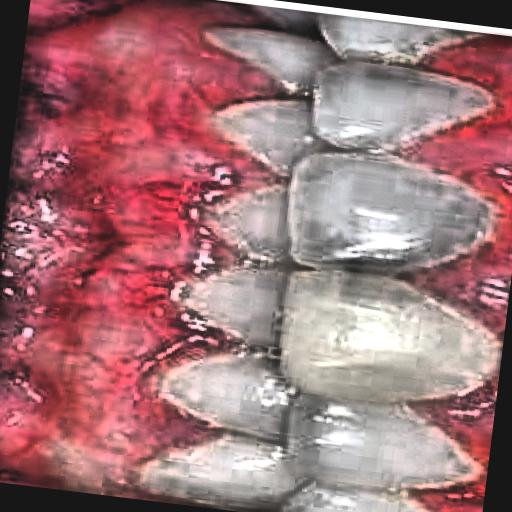Gingivitis: (0, 0, 207, 497)
